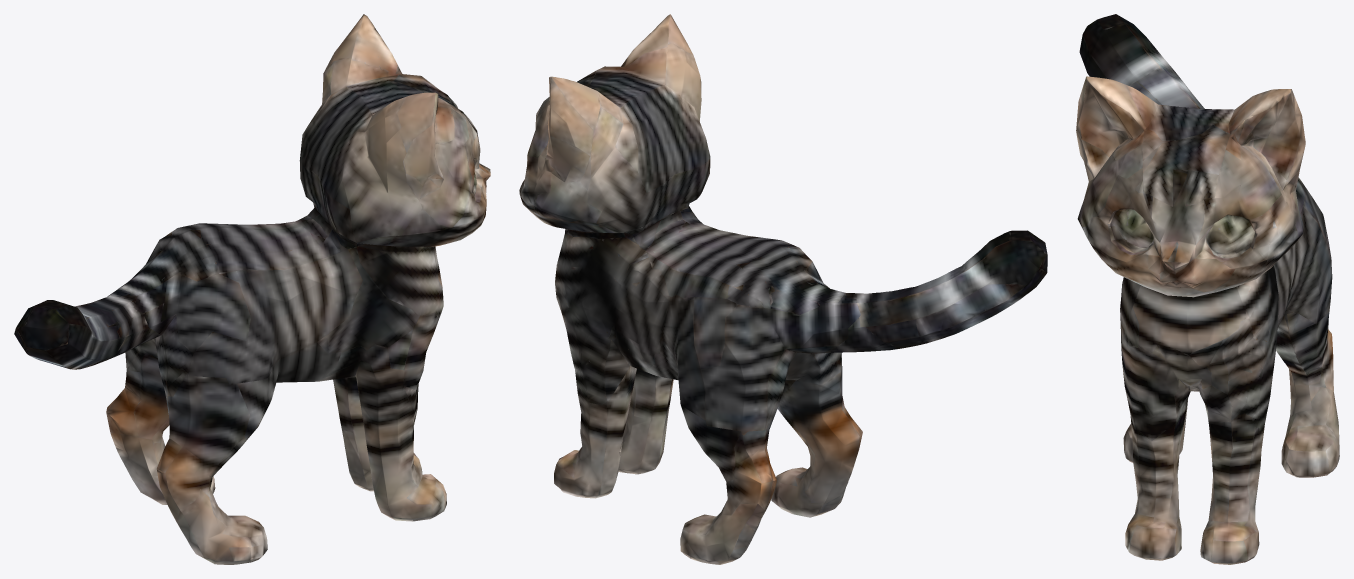
The model's file is CABLETAIL-lo.glb.
3 views of the same model, side by side, from view 1: azimuth 30°, elevation 25°; view 2: azimuth 150°, elevation 25°; view 3: azimuth 270°, elevation 25° (orthographic). The views are drawn at different scales.
Visible parts, largest first — view 1: fit; view 2: fit; view 3: fit.
Boxes of the visible parts, left/top/right/bottom form: fit: left=14, top=14, right=490, bottom=564; fit: left=519, top=14, right=1047, bottom=564; fit: left=1076, top=14, right=1339, bottom=564.
Bounding box in the file's own units: 1.17 × 1 × 0.512.
Materials: 1 (1 with a texture image).
